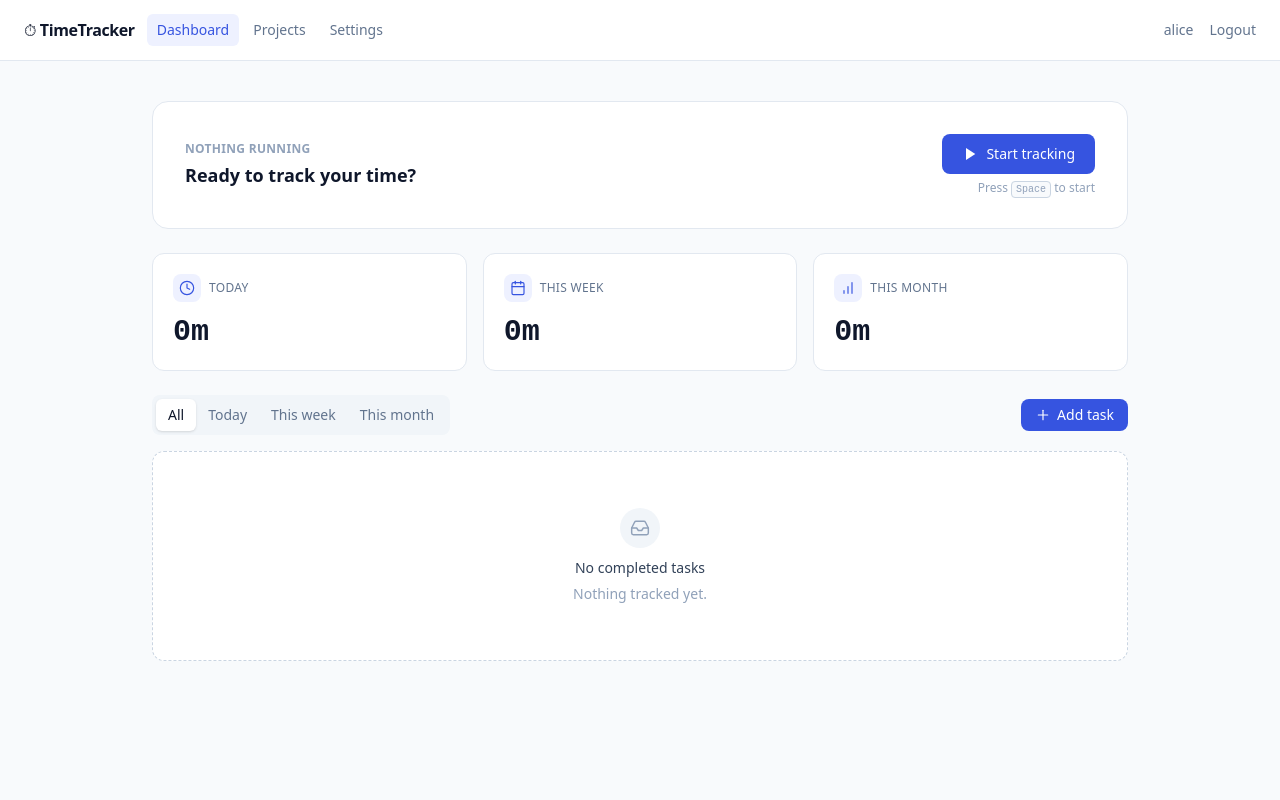
DashboardPage › hides start form when cancel is clicked
Click the button with test id "start-task-button": (1019, 154) [942,134,1095,174]
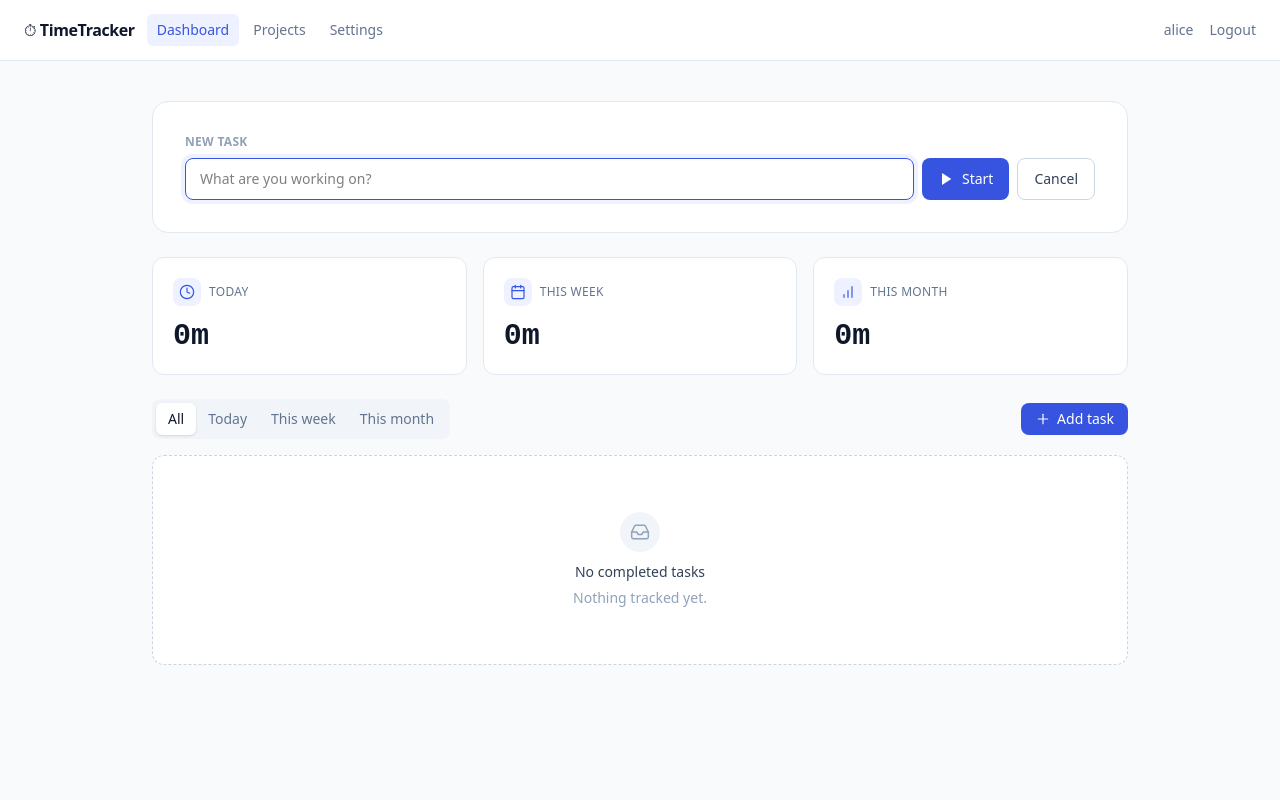
Click the button with test id "start-cancel": (1056, 179) [1017,158,1095,200]
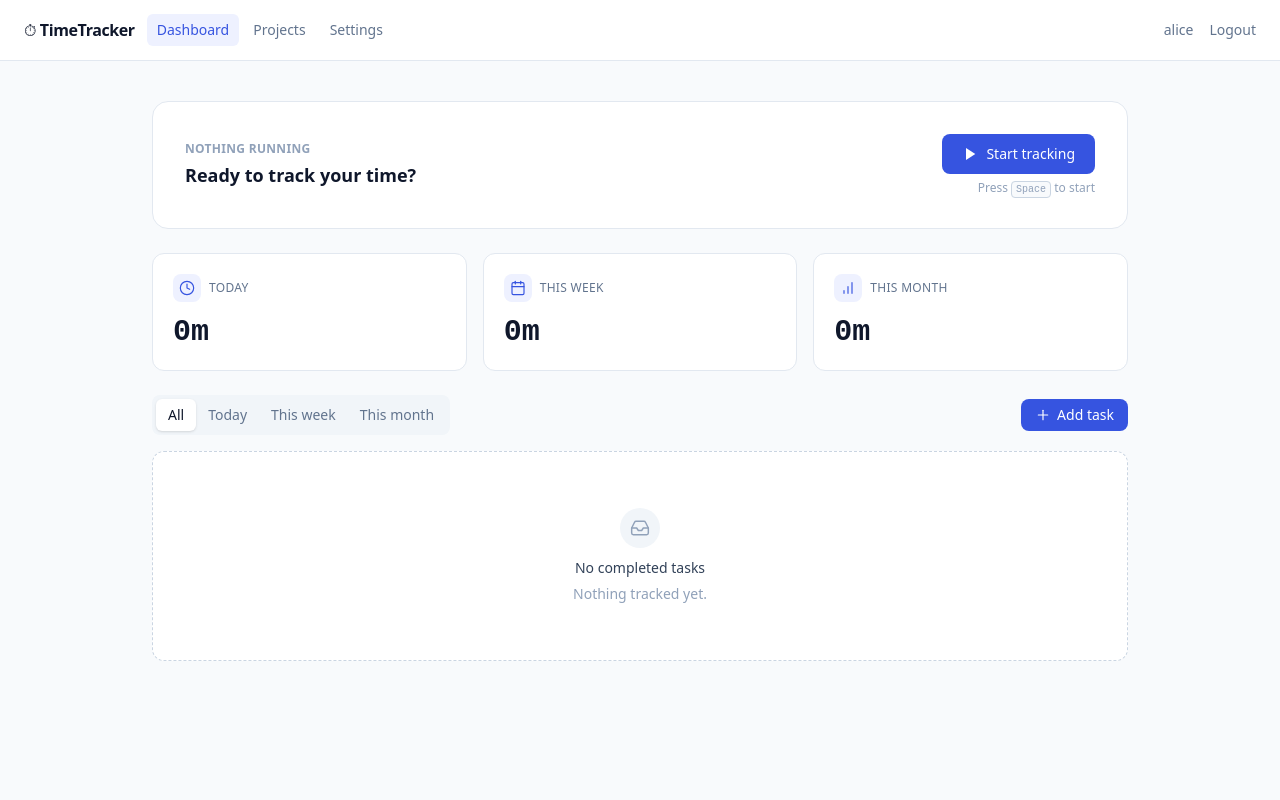
Expected: the form with test id "start-form" is gone
